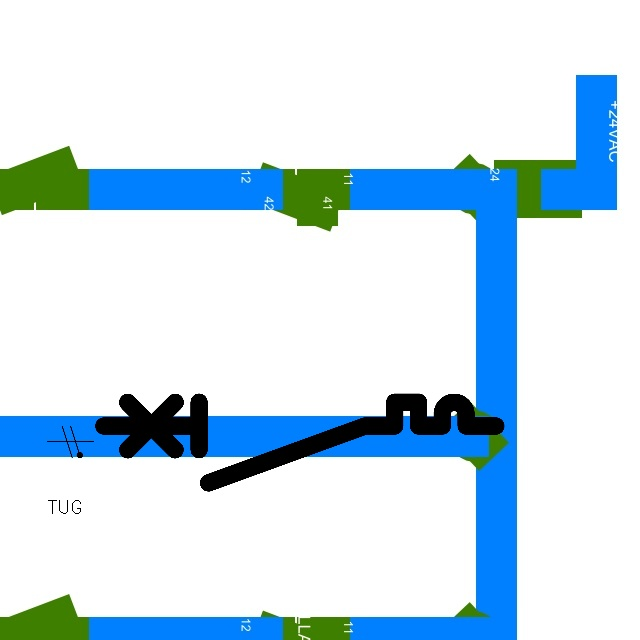interruptor_termomagnetico: (93, 392, 506, 493)
